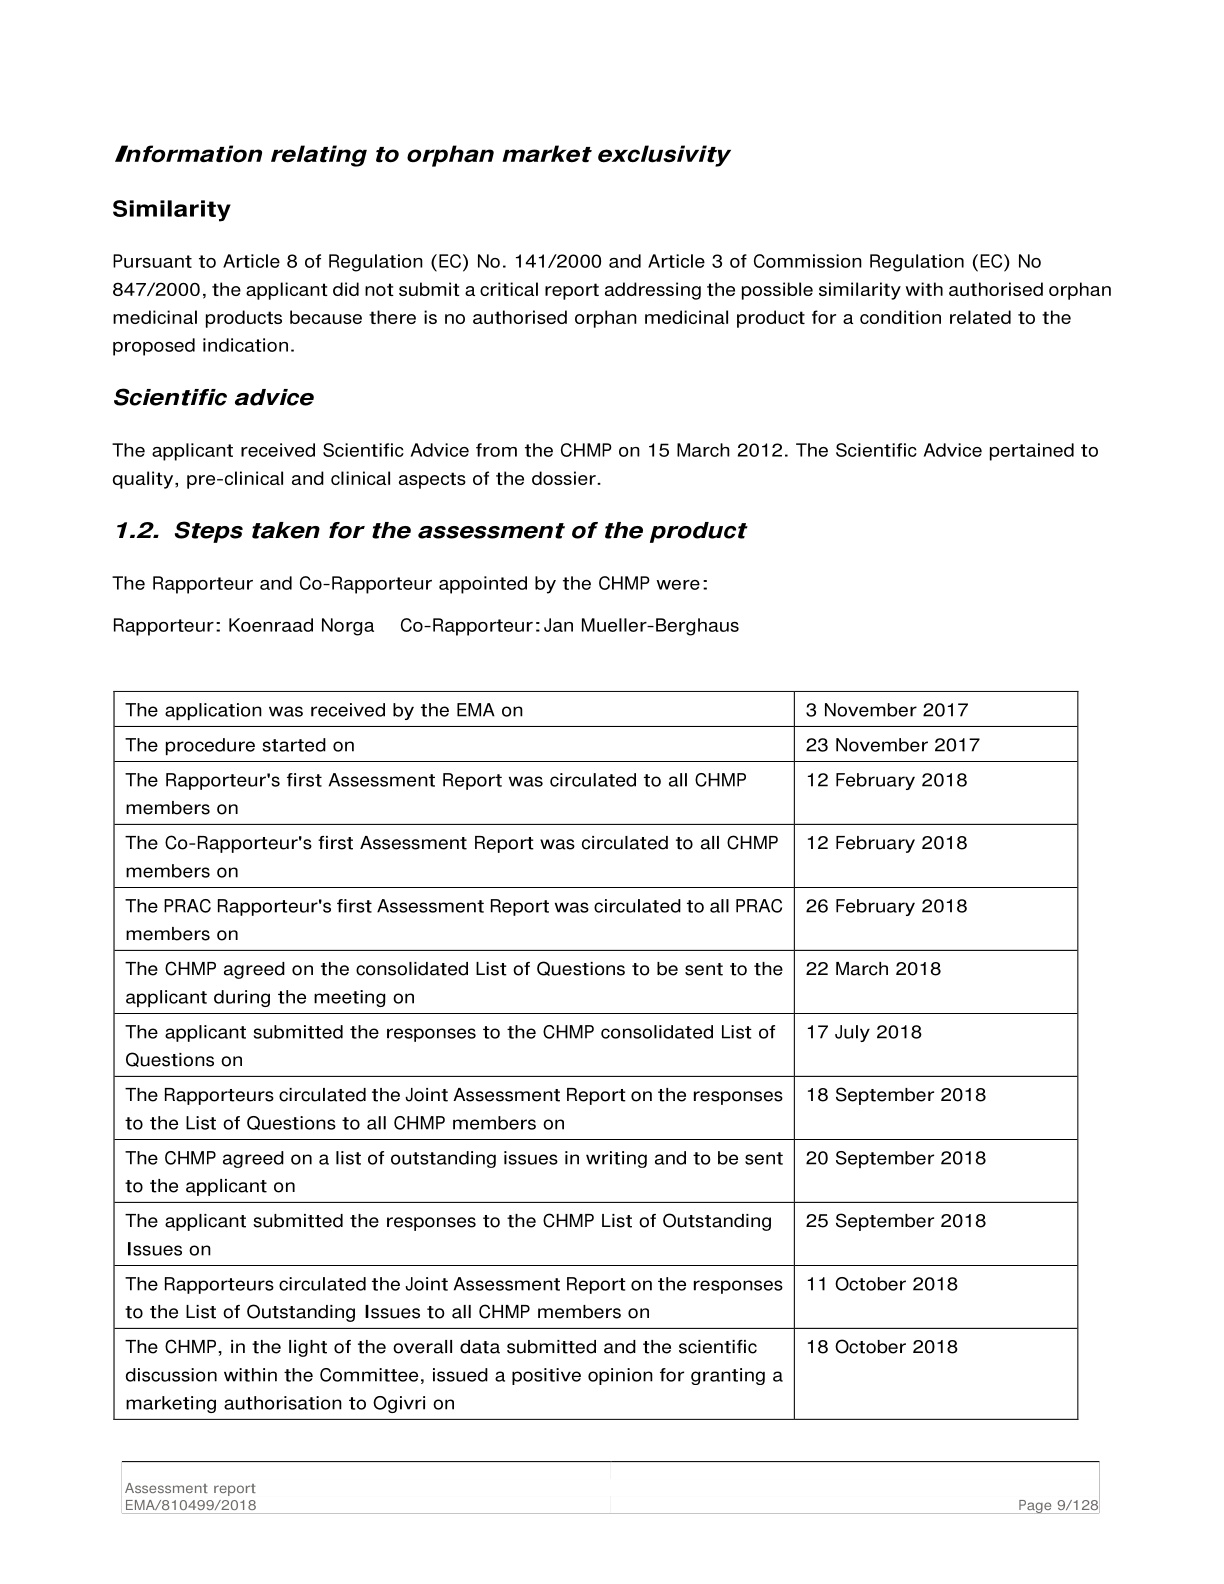full_lined: (111, 689, 1080, 1421)
